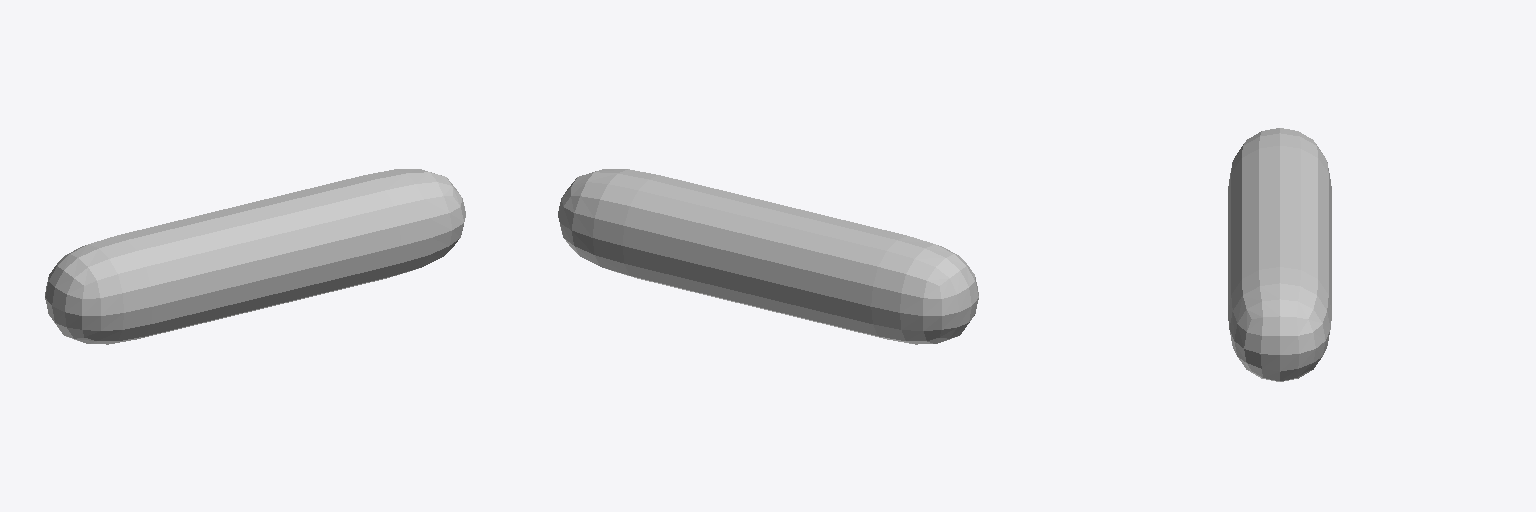
Rendered from white_base.obj.
3 renders of one model, left to right at view 1: azimuth 30°, elevation 25°; view 2: azimuth 150°, elevation 25°; view 3: azimuth 270°, elevation 25°, orthographic.
Visible parts, largest first — view 1: Bacteria_Base_1; view 2: Bacteria_Base_1; view 3: Bacteria_Base_1.
Boxes of the visible parts, <box> form: Bacteria_Base_1: <box>45,169,465,344</box>; Bacteria_Base_1: <box>558,169,978,344</box>; Bacteria_Base_1: <box>1228,128,1331,381</box>.
Size of the model in its own units: 6.28 by 1.39 by 1.39.